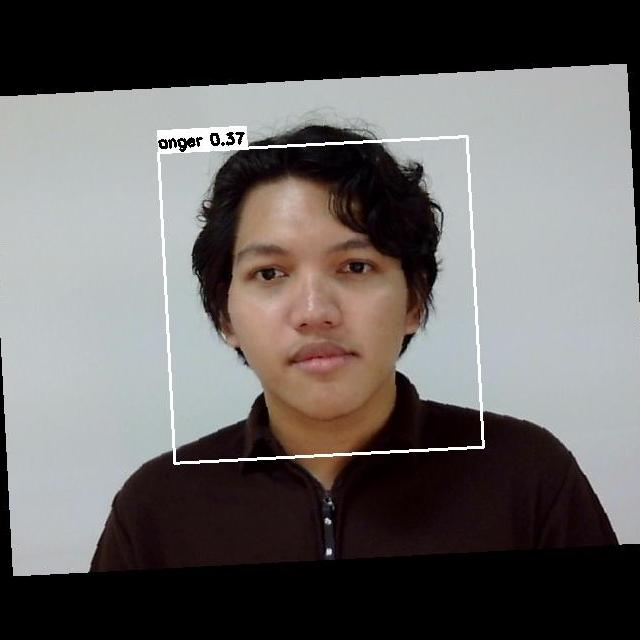Natural: (196, 222, 430, 400)
